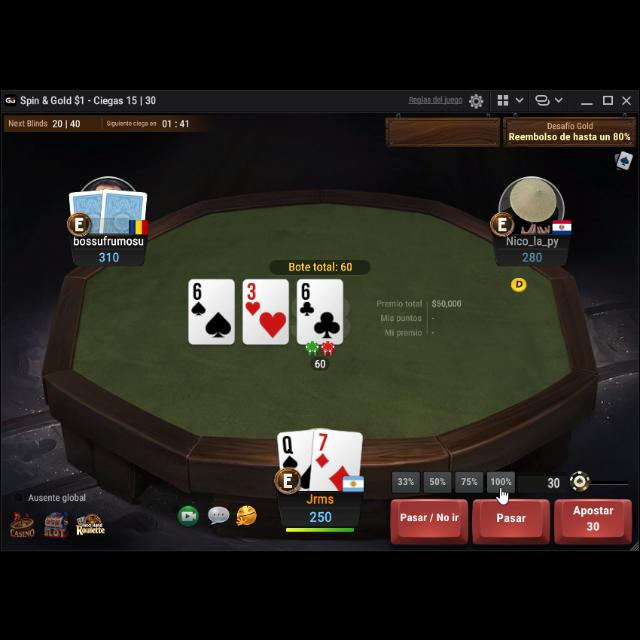3h: (244, 278, 262, 314)
6s: (190, 279, 208, 315)
7d: (314, 428, 332, 468)
9c: (298, 278, 316, 314)
Qs: (280, 430, 300, 468)
bet_text: (313, 354, 327, 368)
card_back: (99, 182, 148, 234), (67, 185, 109, 232)
dealer: (510, 274, 528, 290)
hero_active: (388, 492, 636, 542)
pot_text: (286, 258, 354, 270)
stack_text: (307, 506, 333, 522), (98, 247, 120, 261), (521, 248, 543, 260)
